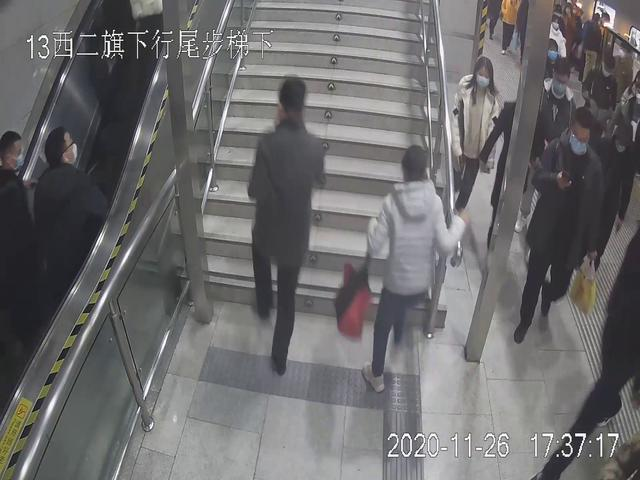person: (242, 71, 321, 381), (350, 144, 449, 389), (520, 106, 607, 346), (28, 125, 115, 314), (454, 55, 511, 232), (1, 124, 36, 316), (539, 59, 575, 183)
